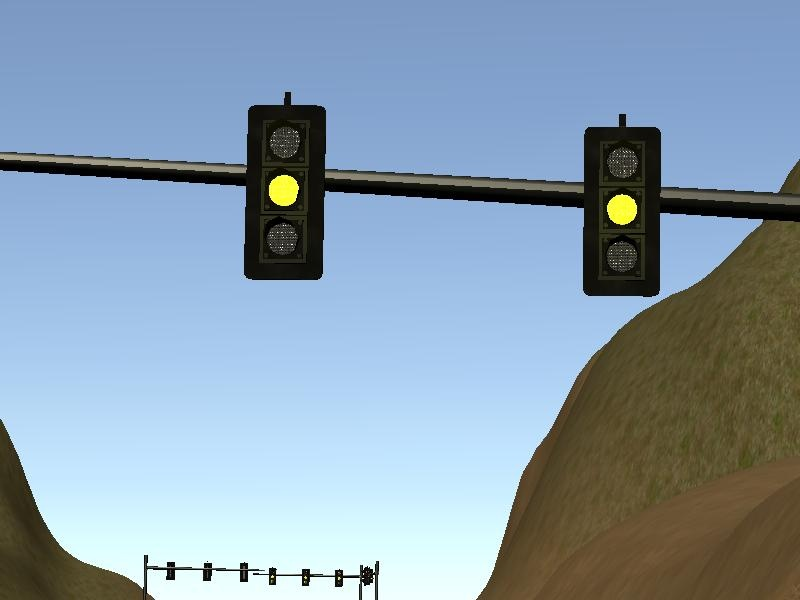yellow: (234, 94, 334, 289), (576, 112, 669, 308)
